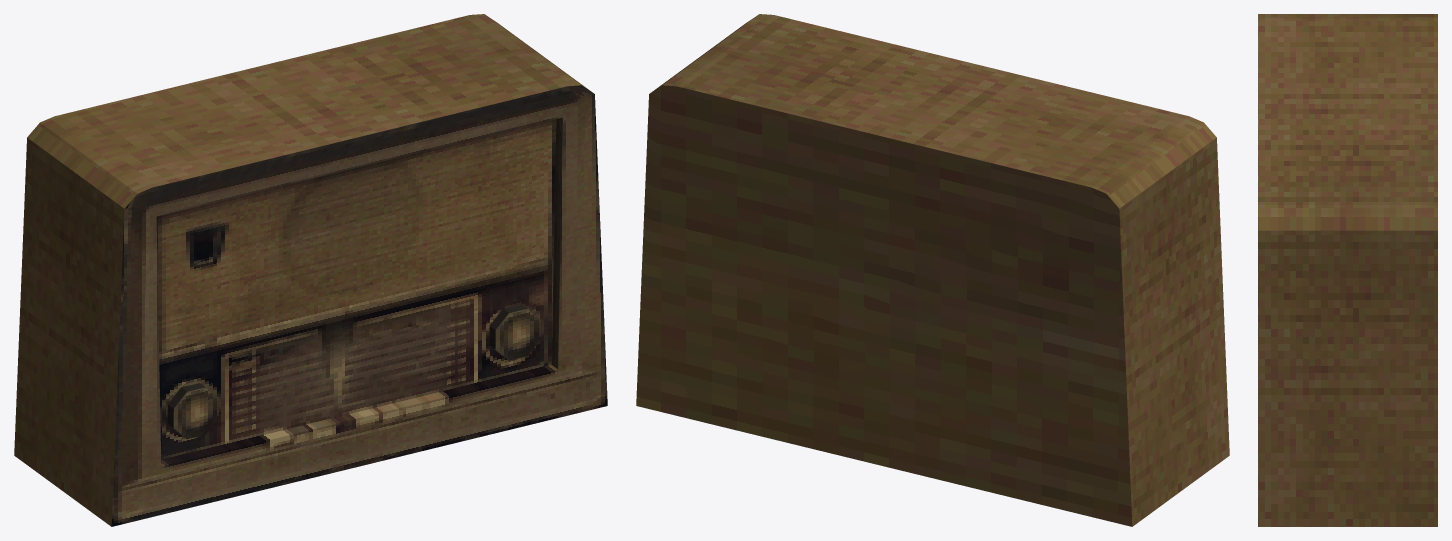
File: vintage_radio.glb
The picture shows the model from 3 angles, left to right: view 1: azimuth 30°, elevation 25°; view 2: azimuth 150°, elevation 25°; view 3: azimuth 270°, elevation 25°; orthographic projection. The views are drawn at different scales.
Parts seen in each view (by area): view 1: Vintage Radio; view 2: Vintage Radio; view 3: Vintage Radio.
Boxes of the visible parts, bbox=[...] form: Vintage Radio: bbox=[14, 14, 607, 526]; Vintage Radio: bbox=[636, 14, 1229, 526]; Vintage Radio: bbox=[1258, 14, 1437, 526].
Size of the model in its own units: 0.3108 by 0.1972 by 0.1058.
1 material, 1 textured.
